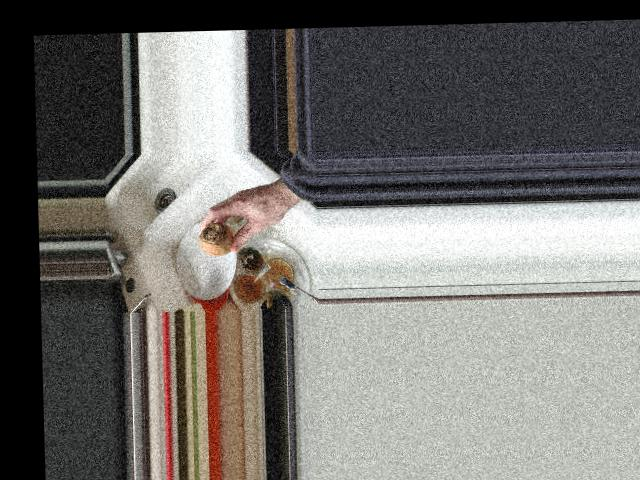sweet_potato: (197, 220, 242, 257)
